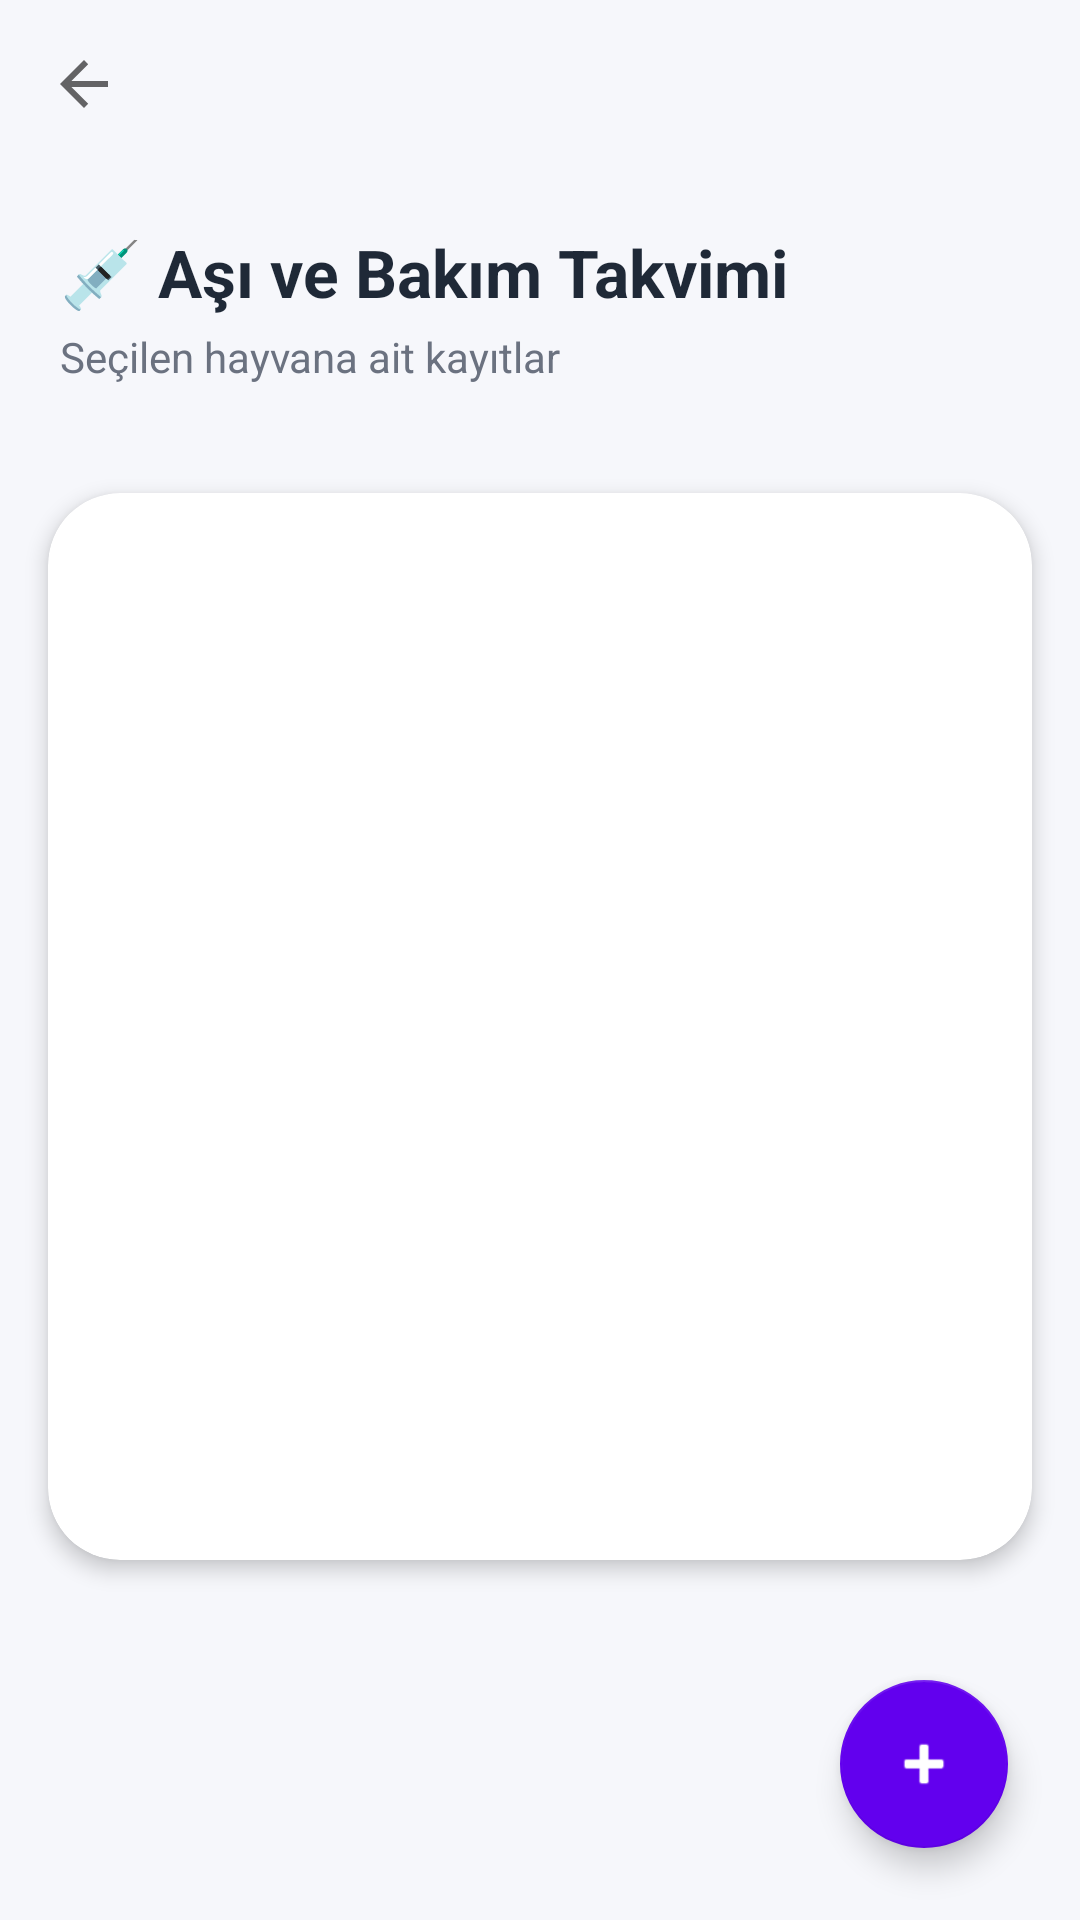

Icon bounding boxes for this 1080x1920 phone screenshot, format (x1, y1, x2, y2):
Add Vaccine: (840, 1680, 1008, 1848)
